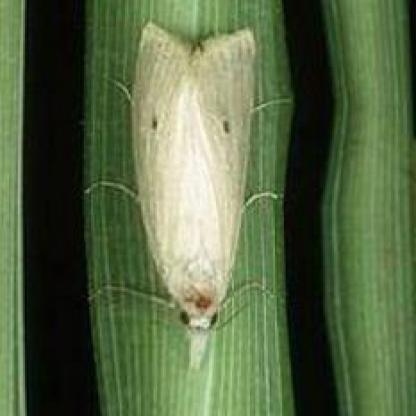stem-borer: (86, 20, 284, 374)
